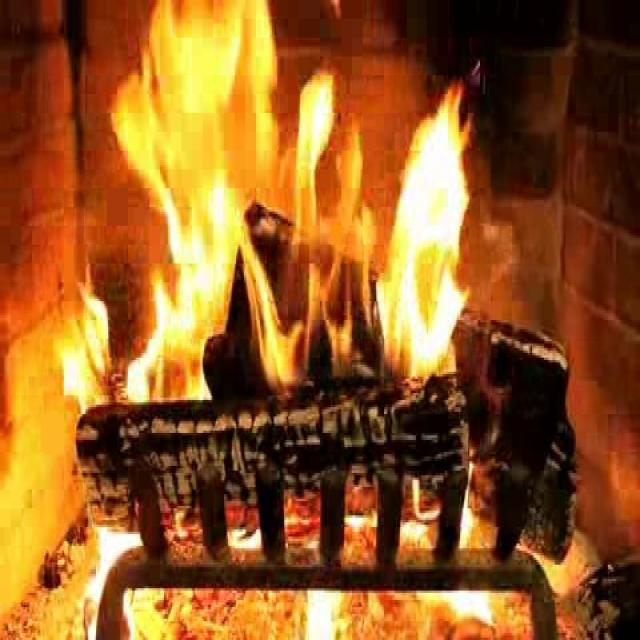Fire: (105, 8, 492, 406)
